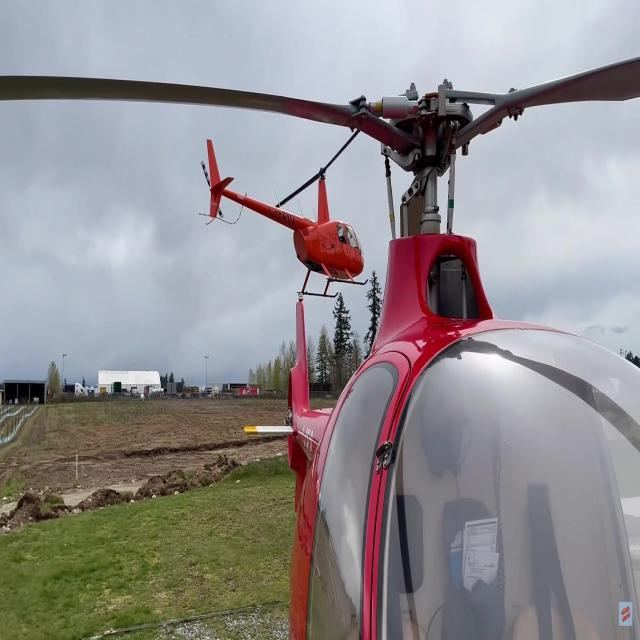CIV_HELO: (205, 134, 373, 302)
